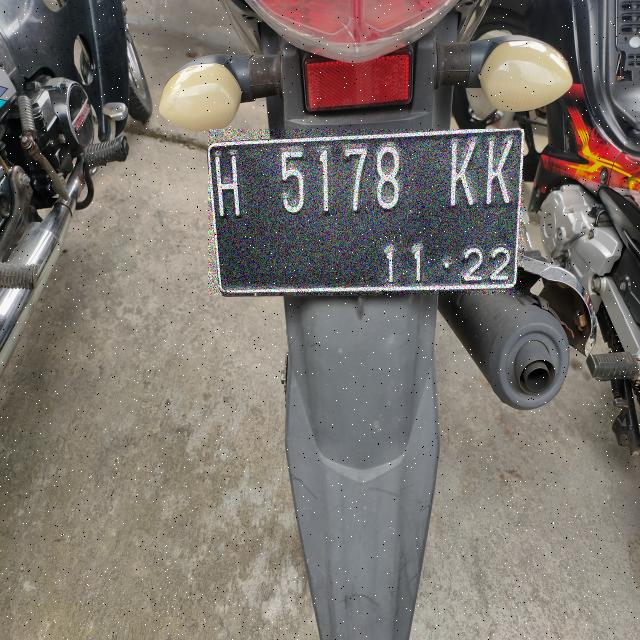plate: (209, 129, 523, 293)
